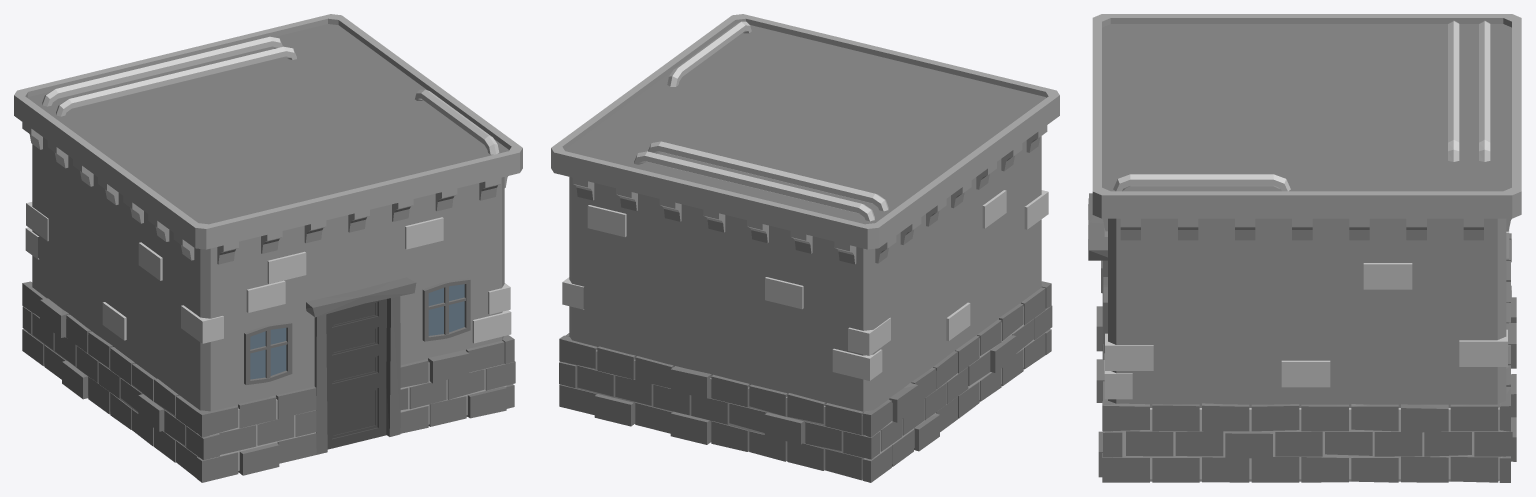
Rendered from qtb_1story.fbx.
3 views of the same model, side by side, from view 1: azimuth 30°, elevation 25°; view 2: azimuth 150°, elevation 25°; view 3: azimuth 270°, elevation 25° (orthographic). The views are drawn at different scales.
Visible parts, largest first — view 1: qtb_1story_LOD0; view 2: qtb_1story_LOD0; view 3: qtb_1story_LOD0.
Part boxes in pixels (x1,y1,x2,y2): qtb_1story_LOD0: (14, 14, 522, 482); qtb_1story_LOD0: (551, 14, 1059, 482); qtb_1story_LOD0: (1088, 14, 1521, 482).
Size of what is drawn, in the model's own units: 5.82 by 4.52 by 5.87.
